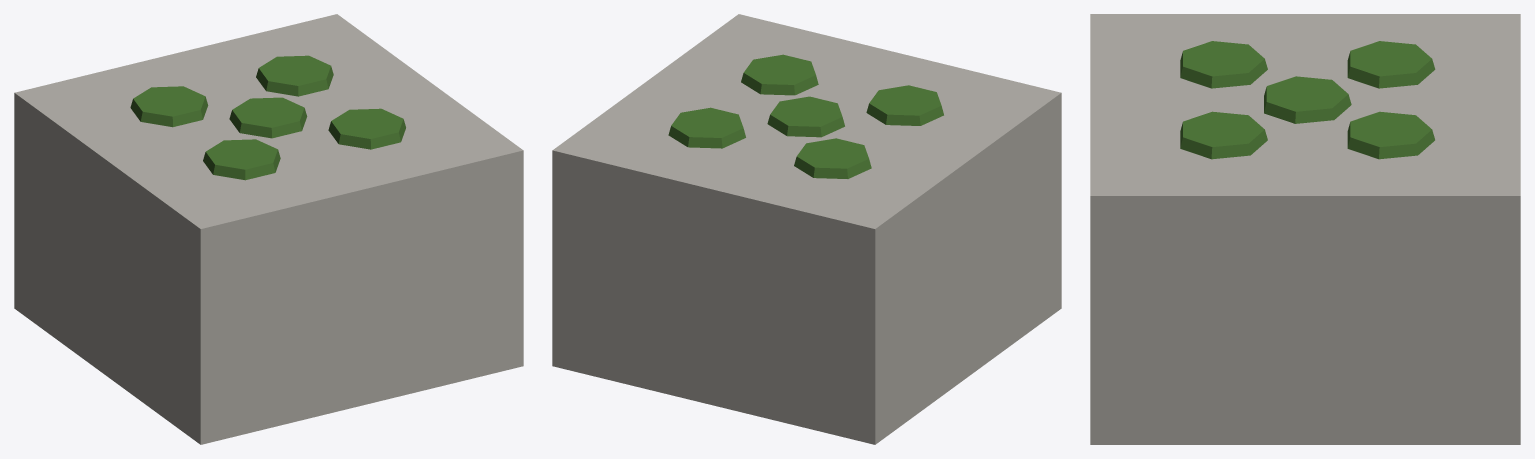
The model's file is PRP_Planter.fbx.
The picture shows the model from 3 angles, left to right: view 1: azimuth 30°, elevation 25°; view 2: azimuth 150°, elevation 25°; view 3: azimuth 270°, elevation 25°; orthographic projection. The views are drawn at different scales.
Visible parts, largest first — view 1: PRP_Planter__COL_Main, PRP_Planter__BODY; view 2: PRP_Planter__COL_Main, PRP_Planter__BODY; view 3: PRP_Planter__COL_Main, PRP_Planter__BODY.
Part boxes in pixels (box(x1,y1,x2,y2)): PRP_Planter__COL_Main: box(14, 14, 523, 444); PRP_Planter__BODY: box(130, 55, 405, 180); PRP_Planter__COL_Main: box(552, 14, 1061, 444); PRP_Planter__BODY: box(668, 54, 943, 178); PRP_Planter__COL_Main: box(1090, 14, 1520, 444); PRP_Planter__BODY: box(1180, 41, 1435, 159).
Bounding box in the file's own units: 1.8 × 1.2 × 1.8.
